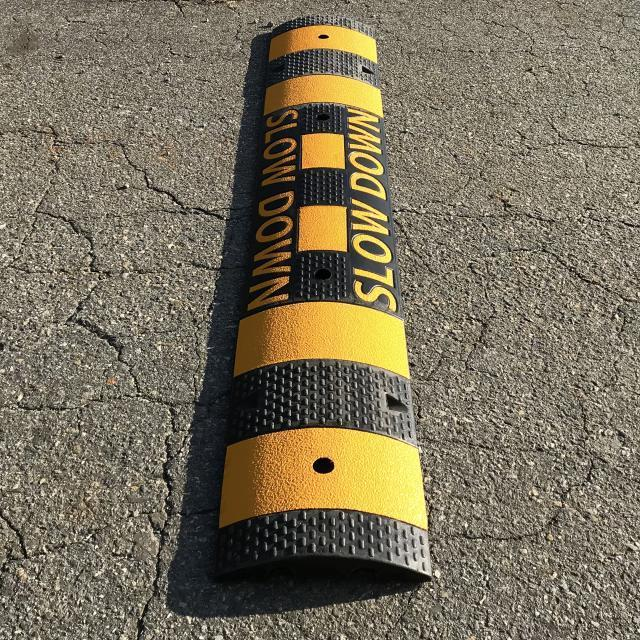Marked Bump: (227, 24, 445, 588)
